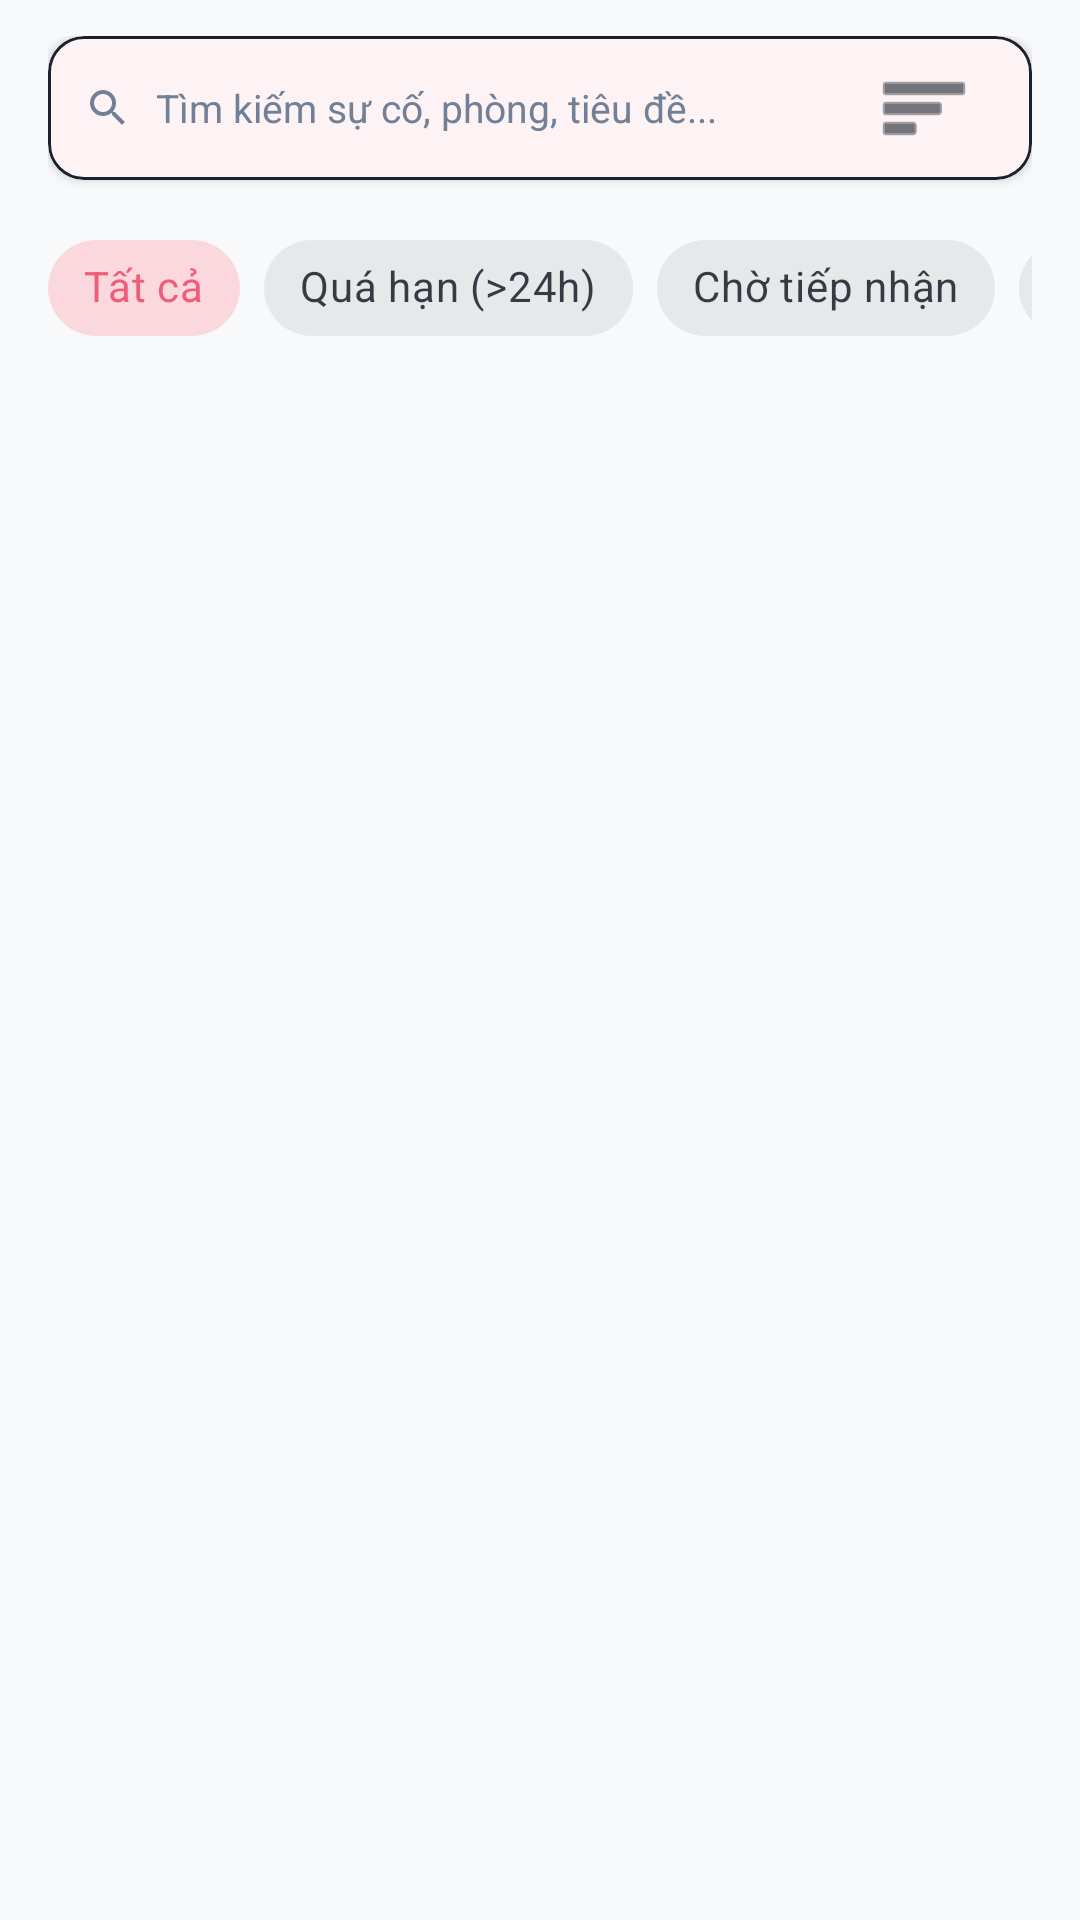

Where to tap for icons on this 1080 x 1920 app screen, as (x=x, y=y):
Sắp xếp trang đã tải: (x=924, y=108)
